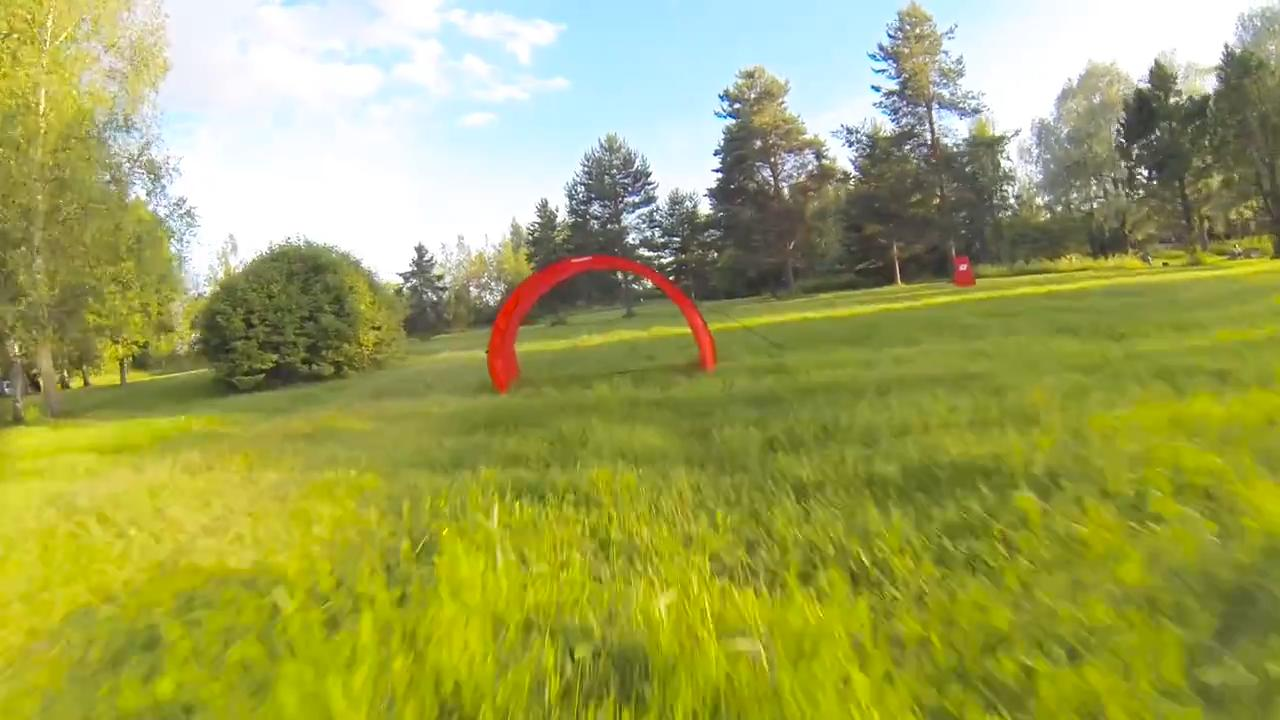gate: (482, 250, 719, 394)
